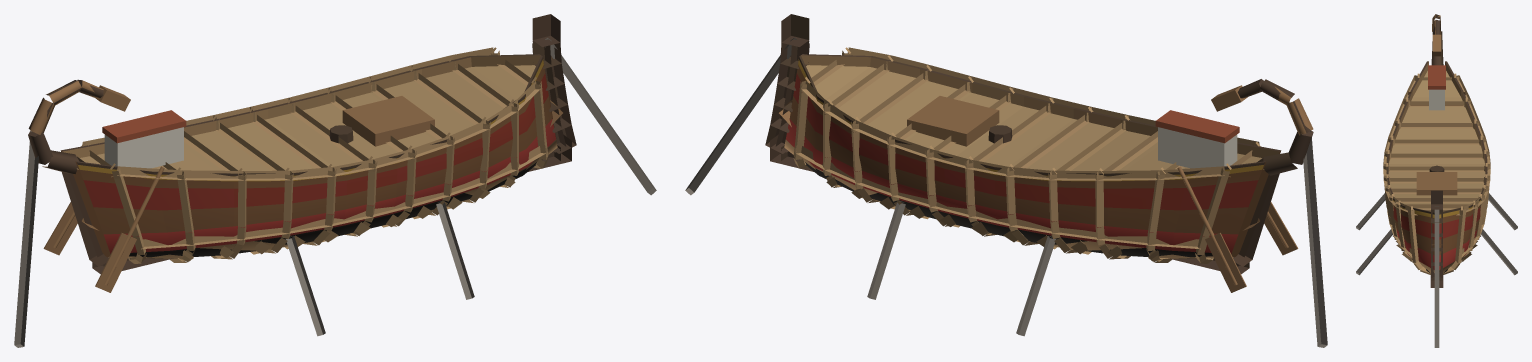
Rendered from hull-stages.glb.
3 renders of one model, left to right at view 1: azimuth 30°, elevation 25°; view 2: azimuth 150°, elevation 25°; view 3: azimuth 270°, elevation 25°, orthographic. The views are drawn at different scales.
Parts seen in each view (by area): view 1: painted, ribs, keel_only; view 2: painted, ribs, keel_only; view 3: painted, ribs, keel_only.
Boxes of the visible parts, box(x1,y1,x2,y2) form: painted: box(30, 54, 556, 292); ribs: box(28, 42, 566, 268); keel_only: box(14, 14, 656, 347); painted: box(786, 54, 1313, 292); ribs: box(775, 42, 1310, 268); keel_only: box(685, 14, 1327, 347); painted: box(1386, 14, 1487, 273); ribs: box(1383, 14, 1490, 284); keel_only: box(1356, 31, 1517, 347).
Bounding box in the file's own units: 17.58 × 6.67 × 6.23.
